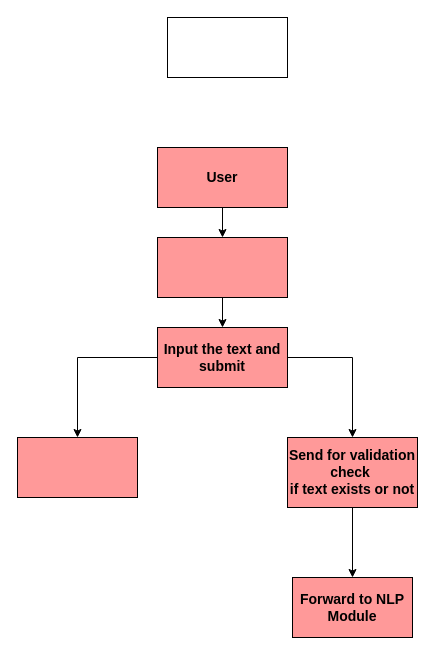
Some shapes in this 435 by 655 pixel diagram are drawn without their labels. The centre of each missing label's shape, as x and y in pixels:
"Journal Entry UI Form" goes at point 222,267.
"Save raw entry to MongoDB" goes at point 77,467.
